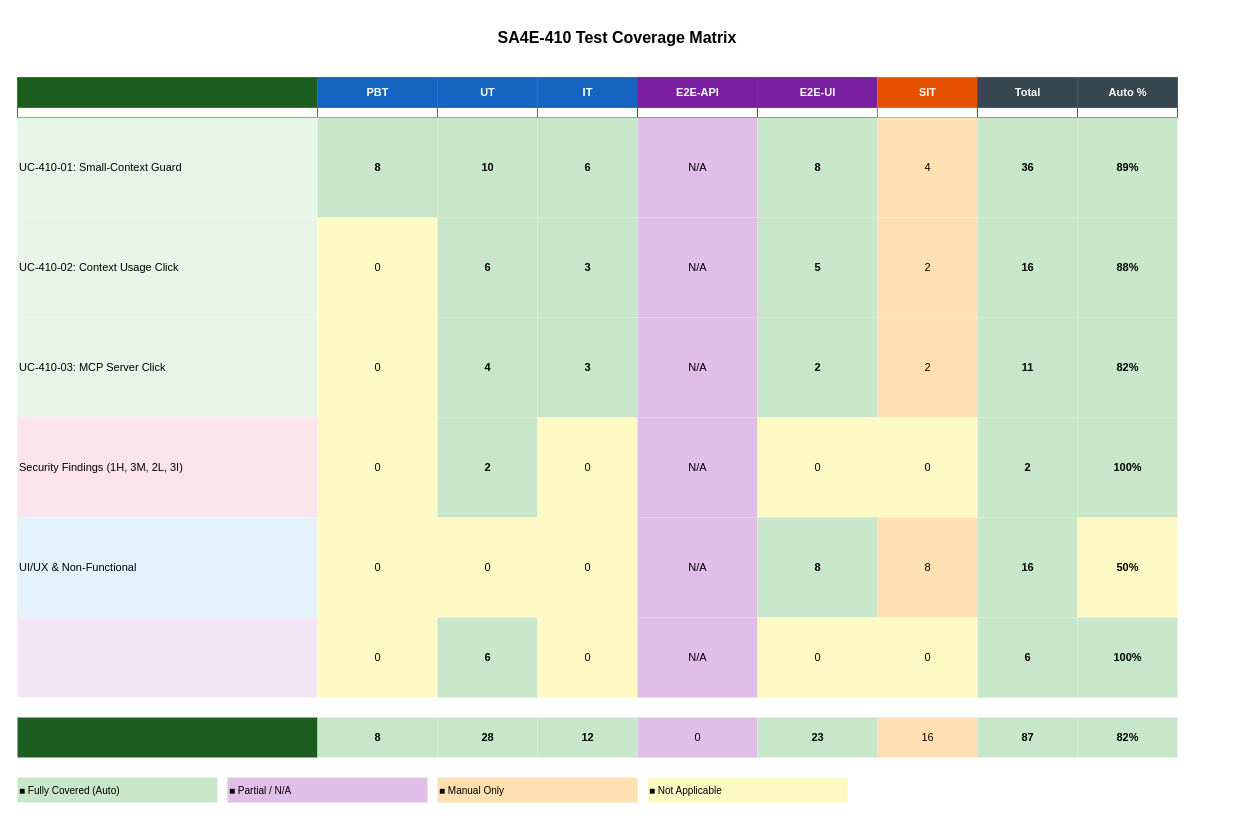
Some shapes in this 1235 by 819 pixel diagram are drawn without their labels. Here are the shapes that lost their labels. From the top down, the box of each, then its label:
(16, 76, 318, 118): Requirement
(17, 617, 317, 697): Regression (SA4E-339)
(17, 717, 317, 757): TOTALS
